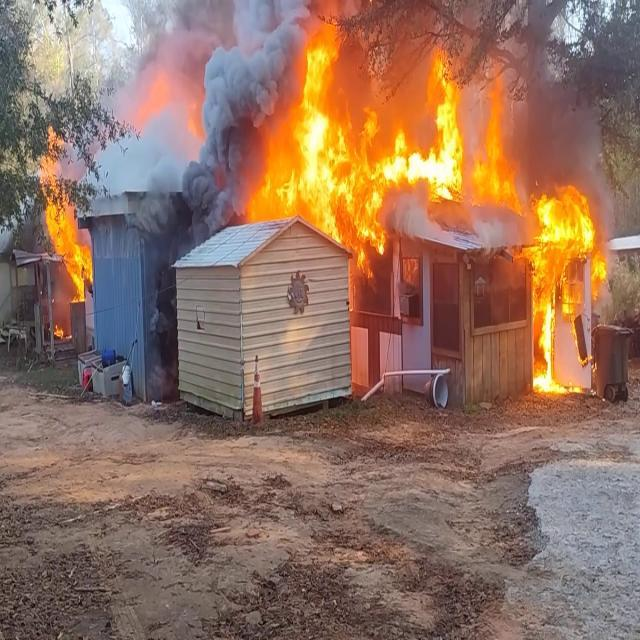Fire: (240, 13, 518, 253), (522, 180, 608, 393), (36, 128, 94, 294)
Smoke: (110, 1, 278, 199)
